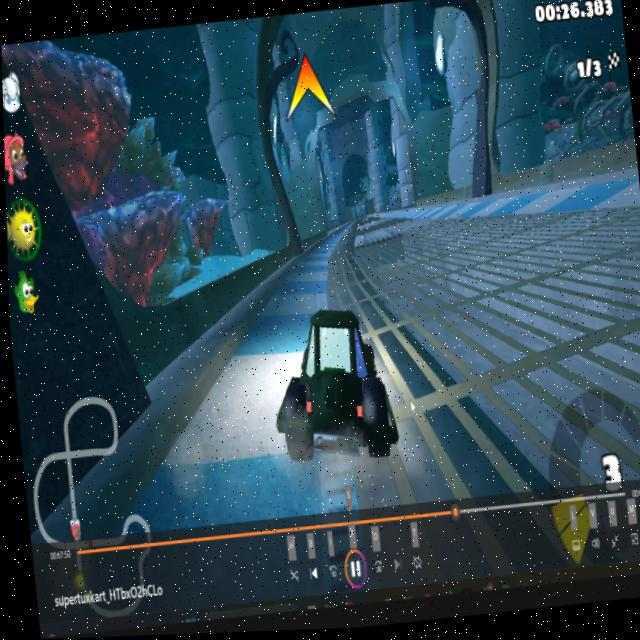player_kart: (261, 283, 398, 483)
track: (368, 205, 614, 406)
